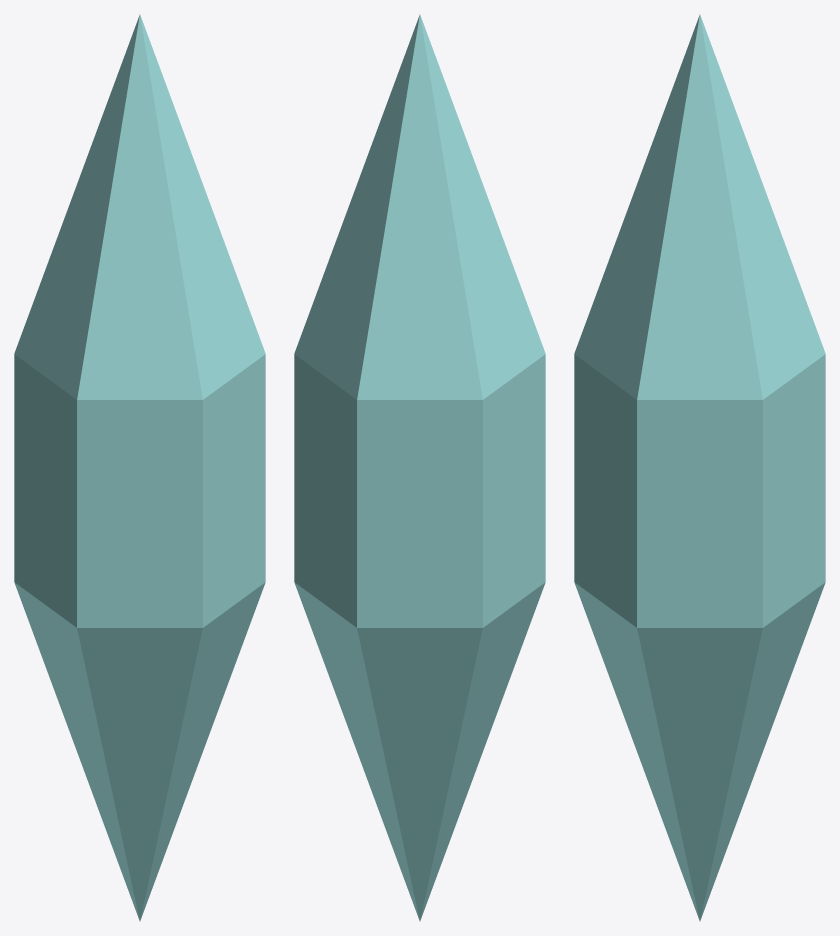
File: crystal.glb
3 renders of one model, left to right at view 1: azimuth 30°, elevation 25°; view 2: azimuth 150°, elevation 25°; view 3: azimuth 270°, elevation 25°, orthographic.
Visible parts, largest first — view 1: Cylinder.011; view 2: Cylinder.011; view 3: Cylinder.011.
Part boxes in pixels (x1,y1,x2,y2): Cylinder.011: [14, 14, 265, 921]; Cylinder.011: [294, 14, 545, 921]; Cylinder.011: [574, 14, 825, 921].
Size of the model in its own units: 1.73 by 7.96 by 2.
